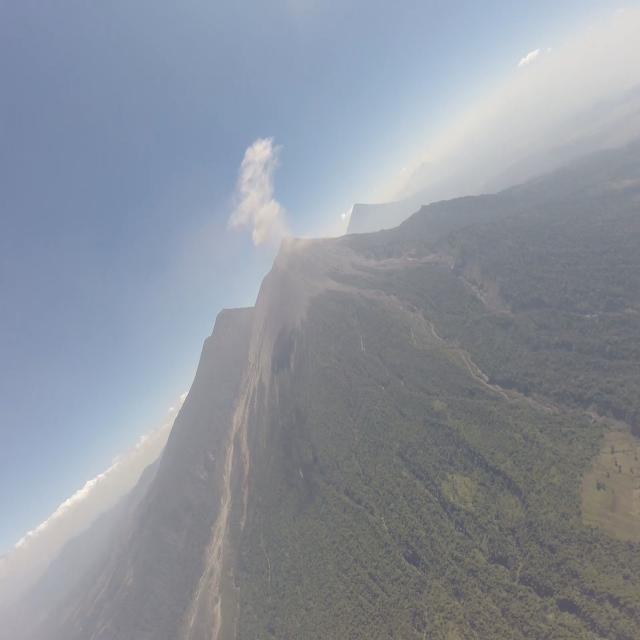Plume: (226, 130, 286, 246)
Summit: (270, 228, 310, 256)
